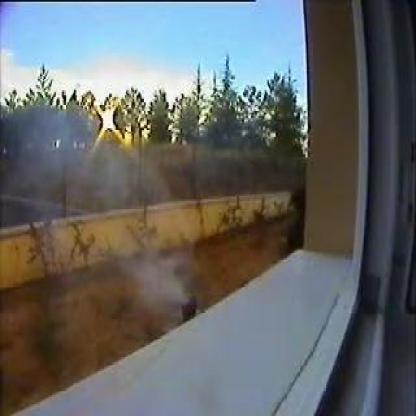-: (131, 245, 187, 306)
